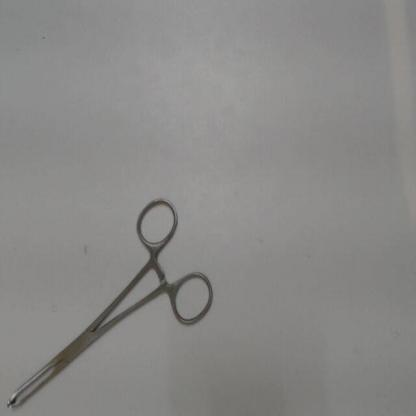Allis Tissue Forceps: (2, 190, 224, 412)
